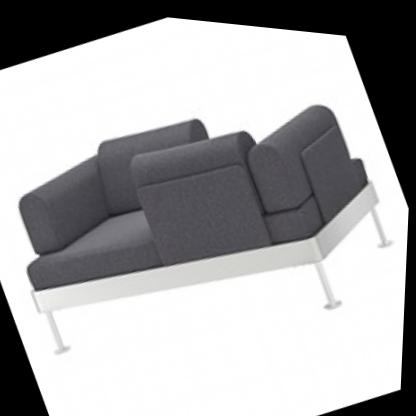Sofa: (0, 3, 416, 416)
